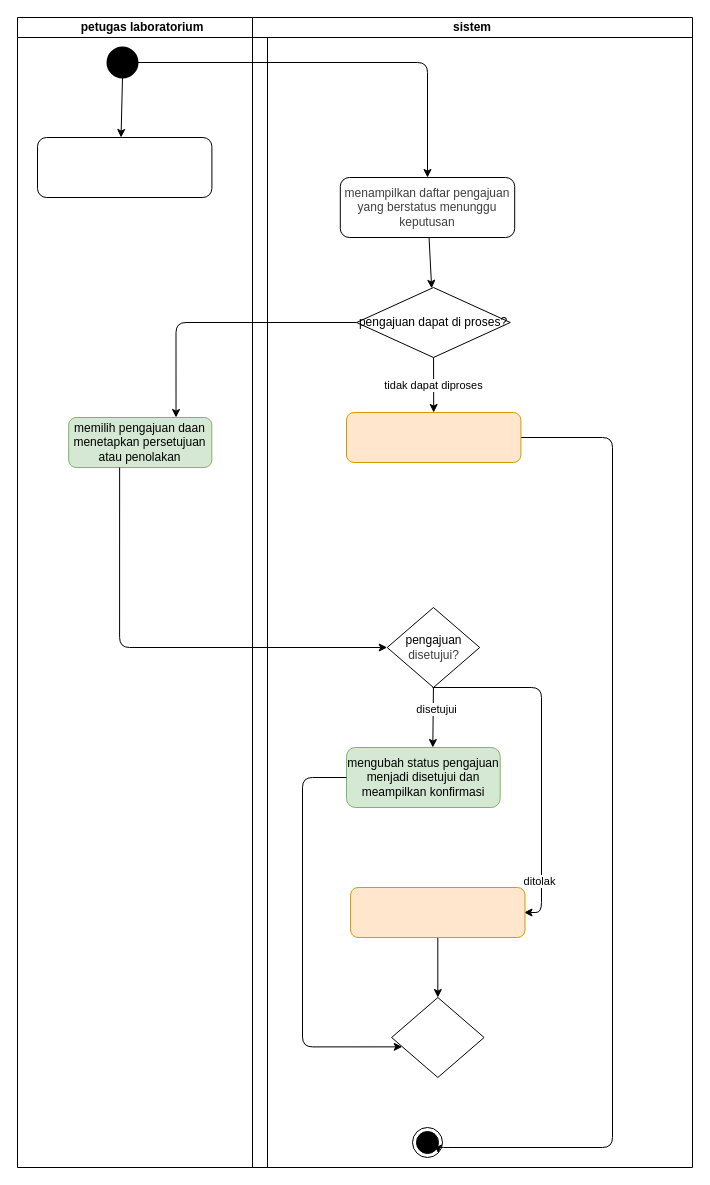
Image size: 710x1185. Some labels were removed from this diagram. The centre of each missing label's shape, as x and y in pixels:
membuka daftar pengajuan yang berstatus menunggu keputusan: (124,167)
menampilkan pesan pengajuan tidak dapat diproses: (433,437)
mengubah status pengajuan menjadi ditolak dan menampilkan konfirmasi penolakan: (437,912)
